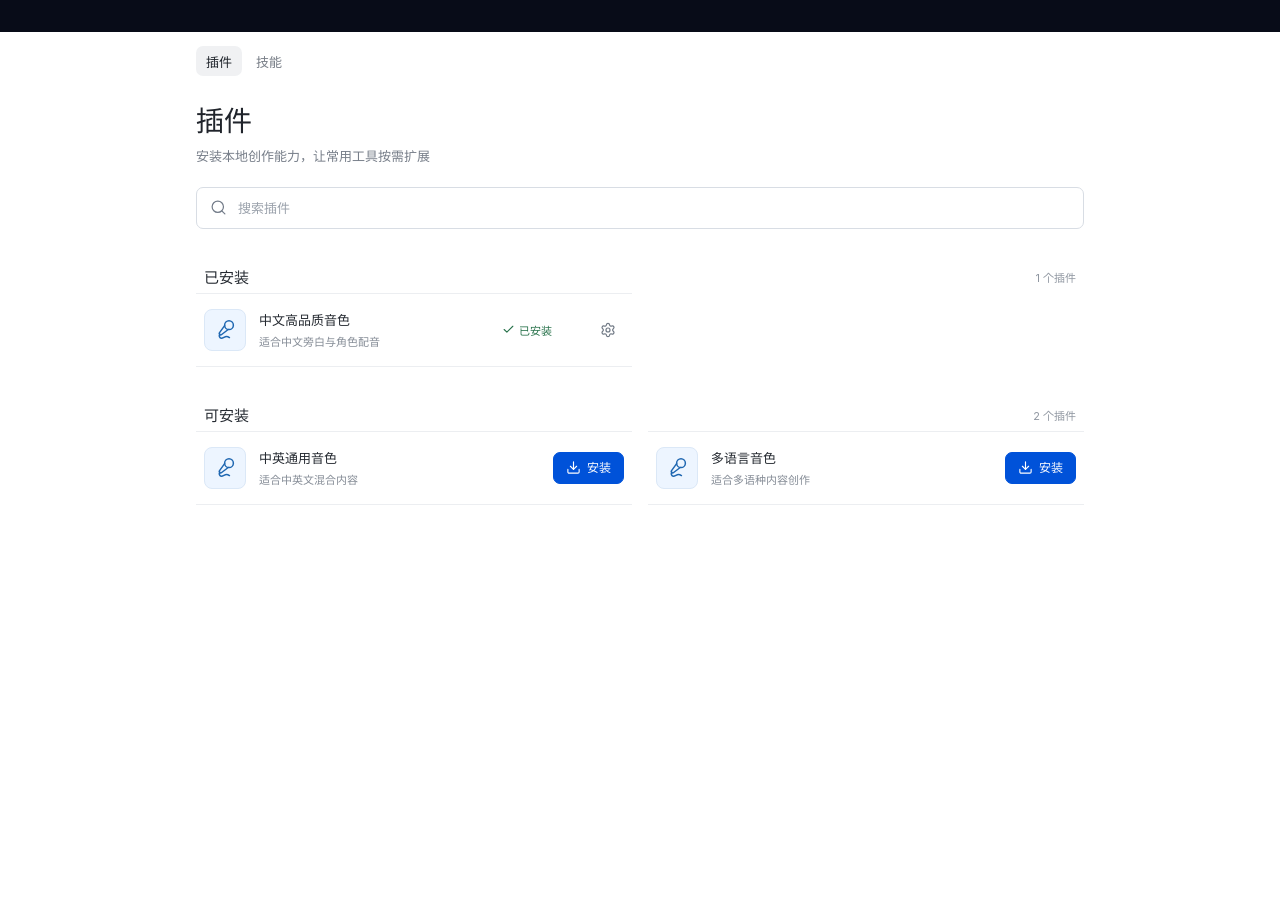
it: PluginsView › shows an error notification when opening the plugin directory fails in detail
Click the button with aria-label "查看中文高品质音色详情".
click(225, 330)  # box [196, 294, 560, 366]
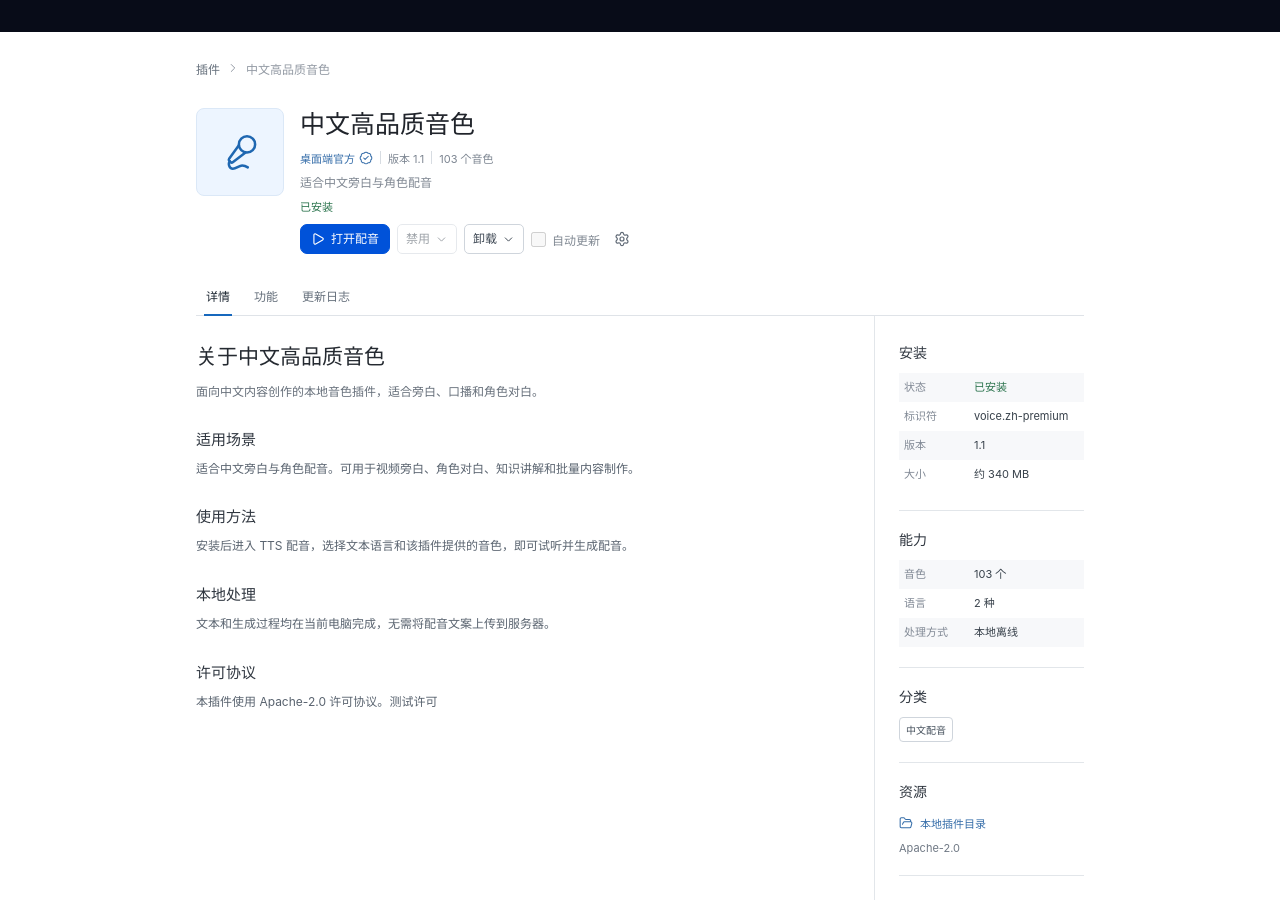
Click the button named "打开中文高品质音色目录".
click(622, 239)  # box [607, 224, 637, 254]
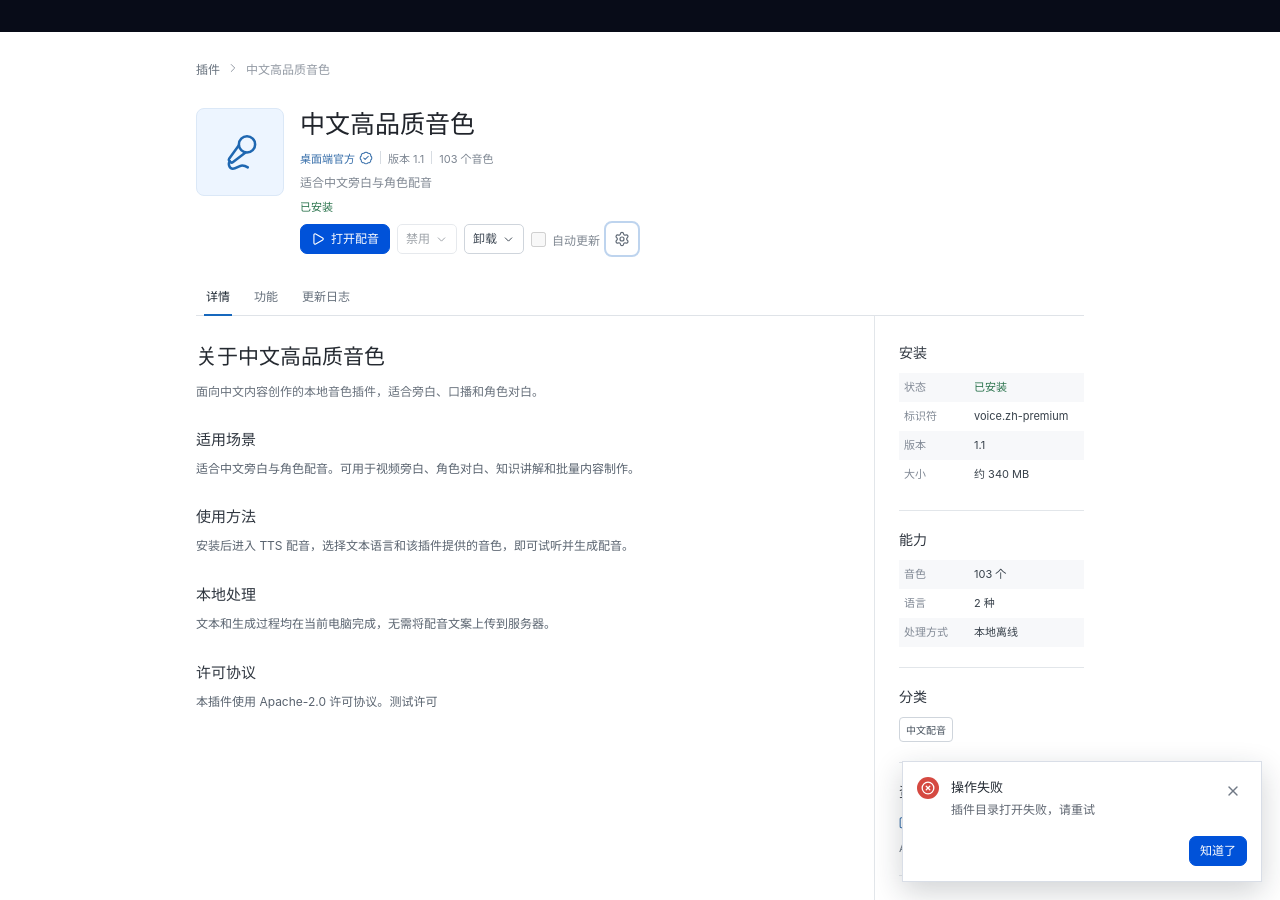
Expected: the text with class "ui-alert-notification__title" reads "操作失败", [951, 779, 1003, 795]
Expected: the text with class "ui-alert-notification__message" reads "插件目录打开失败，请重试", [951, 802, 1095, 817]
